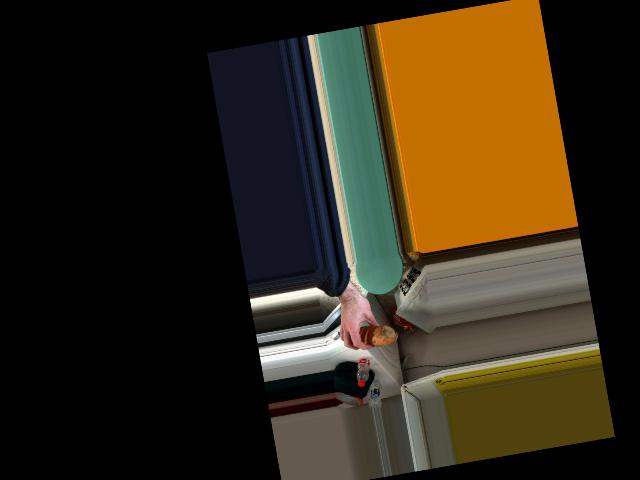sweet_potato: (347, 312, 387, 347)
